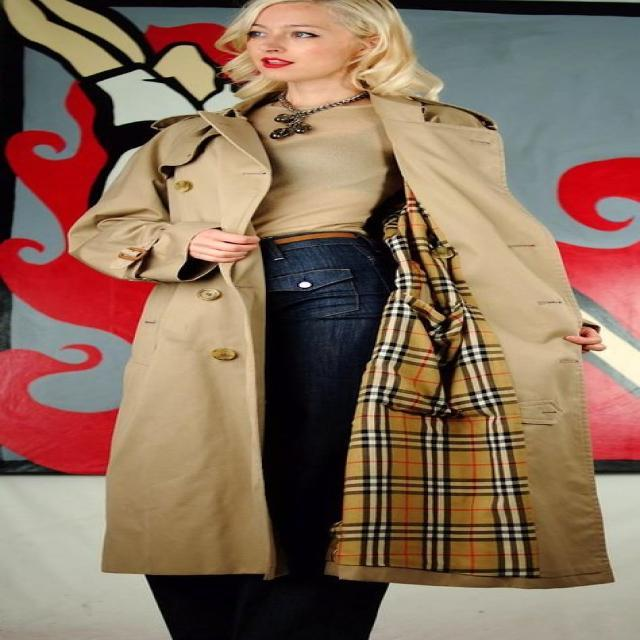coat: (59, 85, 620, 594)
short sleeve shirt: (230, 96, 396, 246)
trousers: (140, 229, 411, 640)
